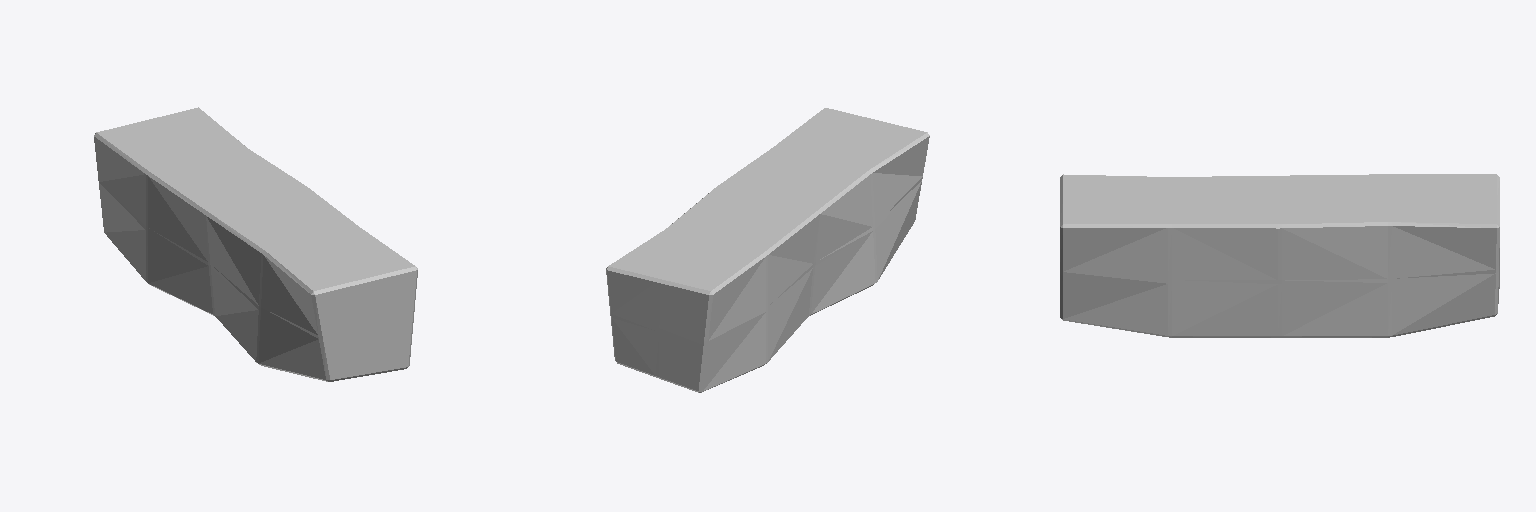
The model's file is butterStick.obj.
3 renders of one model, left to right at view 1: azimuth 30°, elevation 25°; view 2: azimuth 150°, elevation 25°; view 3: azimuth 270°, elevation 25°, orthographic.
Visible parts, largest first — view 1: pCube1; view 2: pCube1; view 3: pCube1.
Boxes of the visible parts, x1,y1,x2,y2 form: pCube1: [94, 107, 417, 381]; pCube1: [606, 108, 929, 392]; pCube1: [1060, 174, 1499, 337].
Bounding box in the file's own units: 3.33 × 3.33 × 11.74.